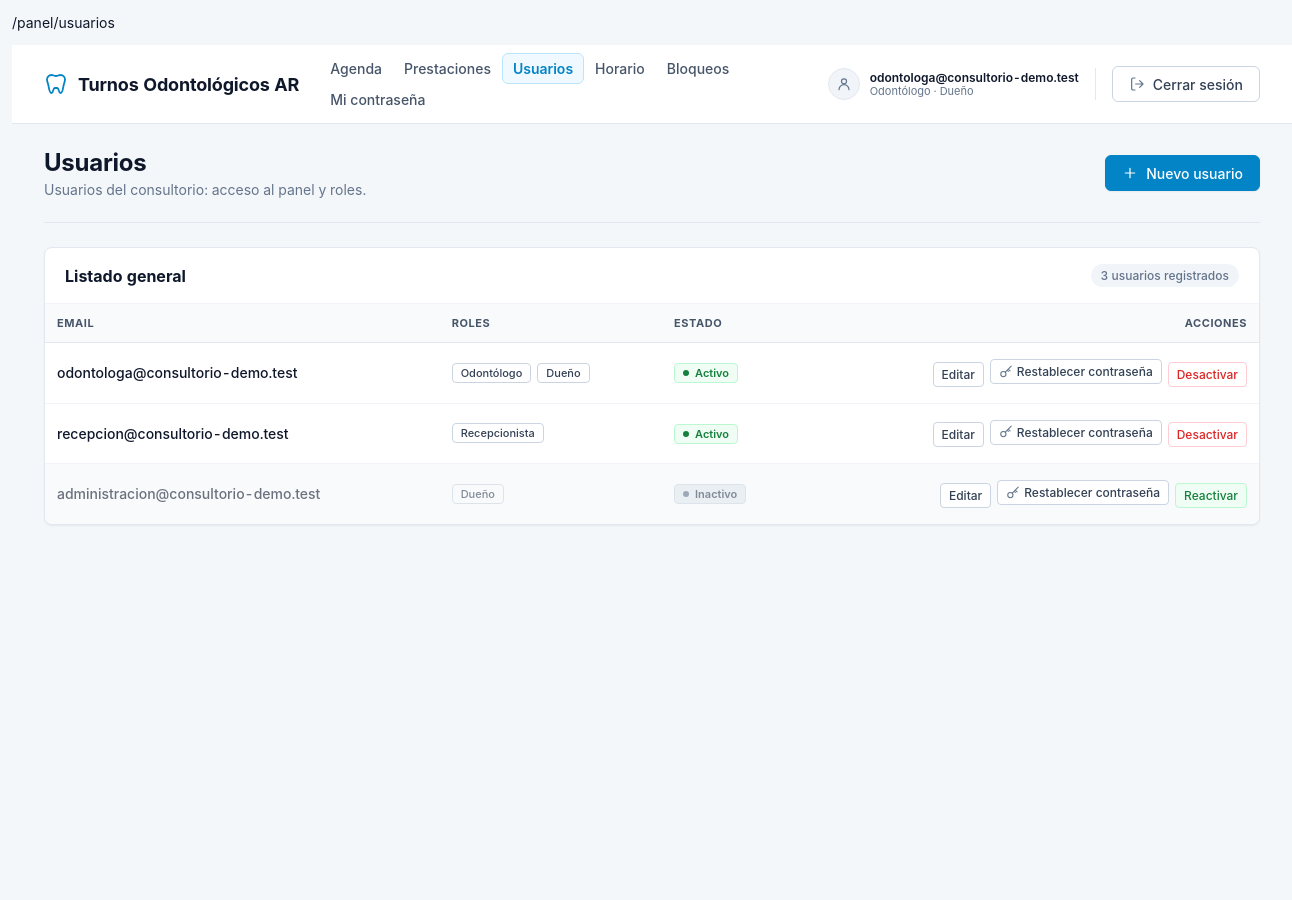
Scenario: PaginaUsuarios: errores del alta › US-092 CA-1: una sesión irrenovable al guardar un alta
expect the table is shown: met, box [45,304,1259,524]
Click the button "Nuevo usuario" at (1183, 173), box [1105,155,1260,191]
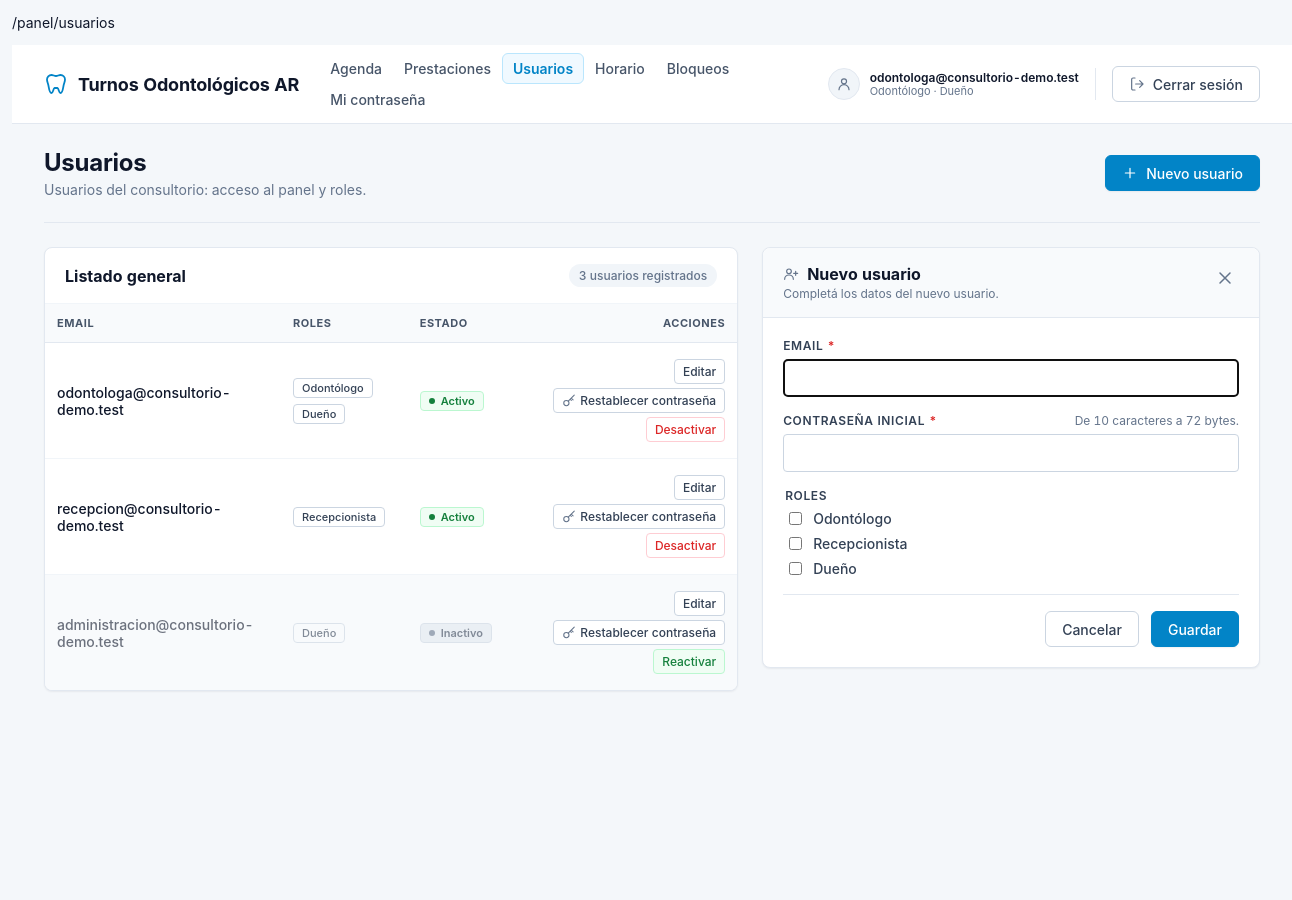
Type "turnos@consultorio-demo.test" into the field labelled "Email" at (1011, 378), box [783,359,1239,397]
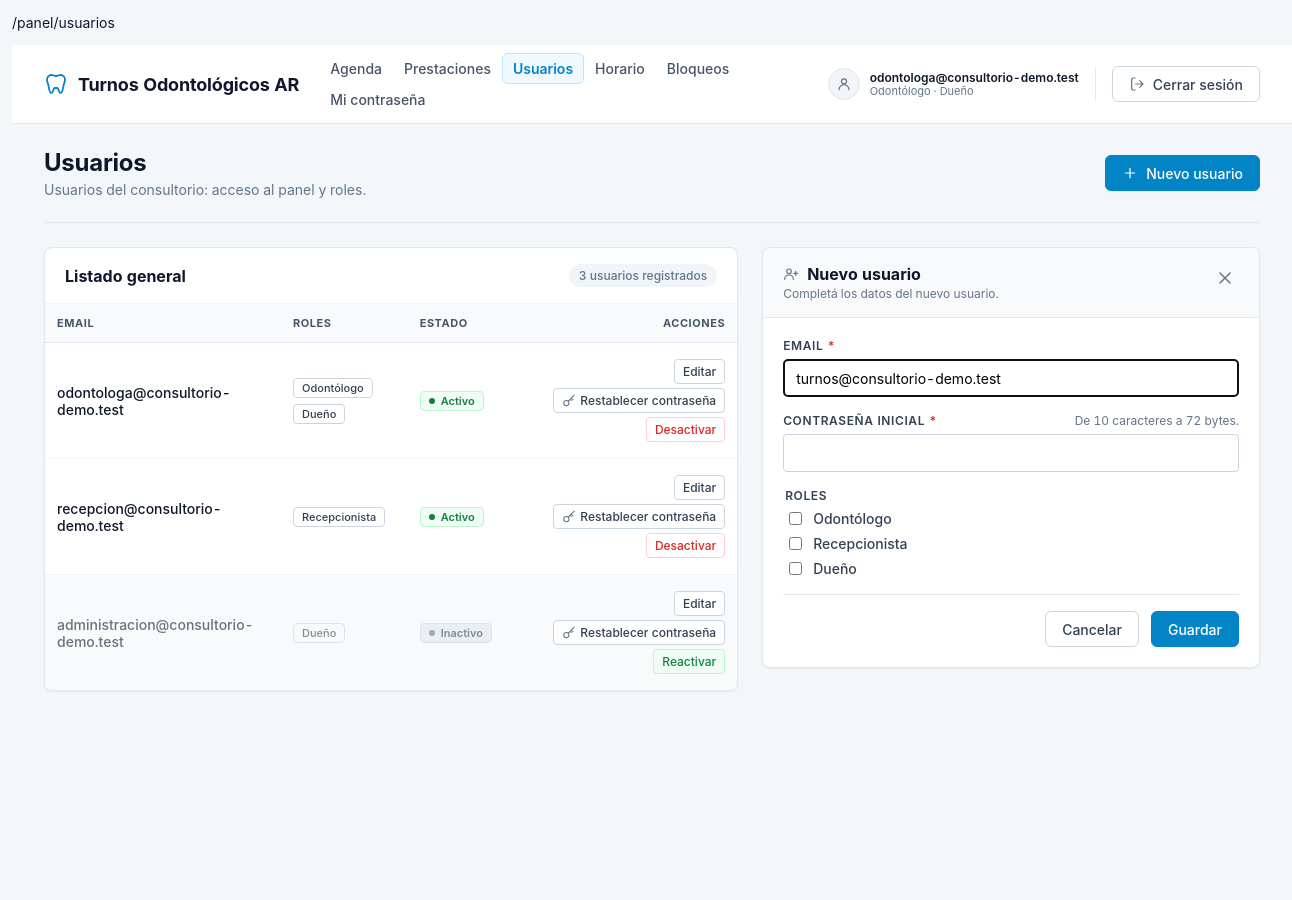
Type "clave-ficticia-2026" into the password field labelled "Contraseña inicial" at (1011, 453), box [783,434,1239,472]
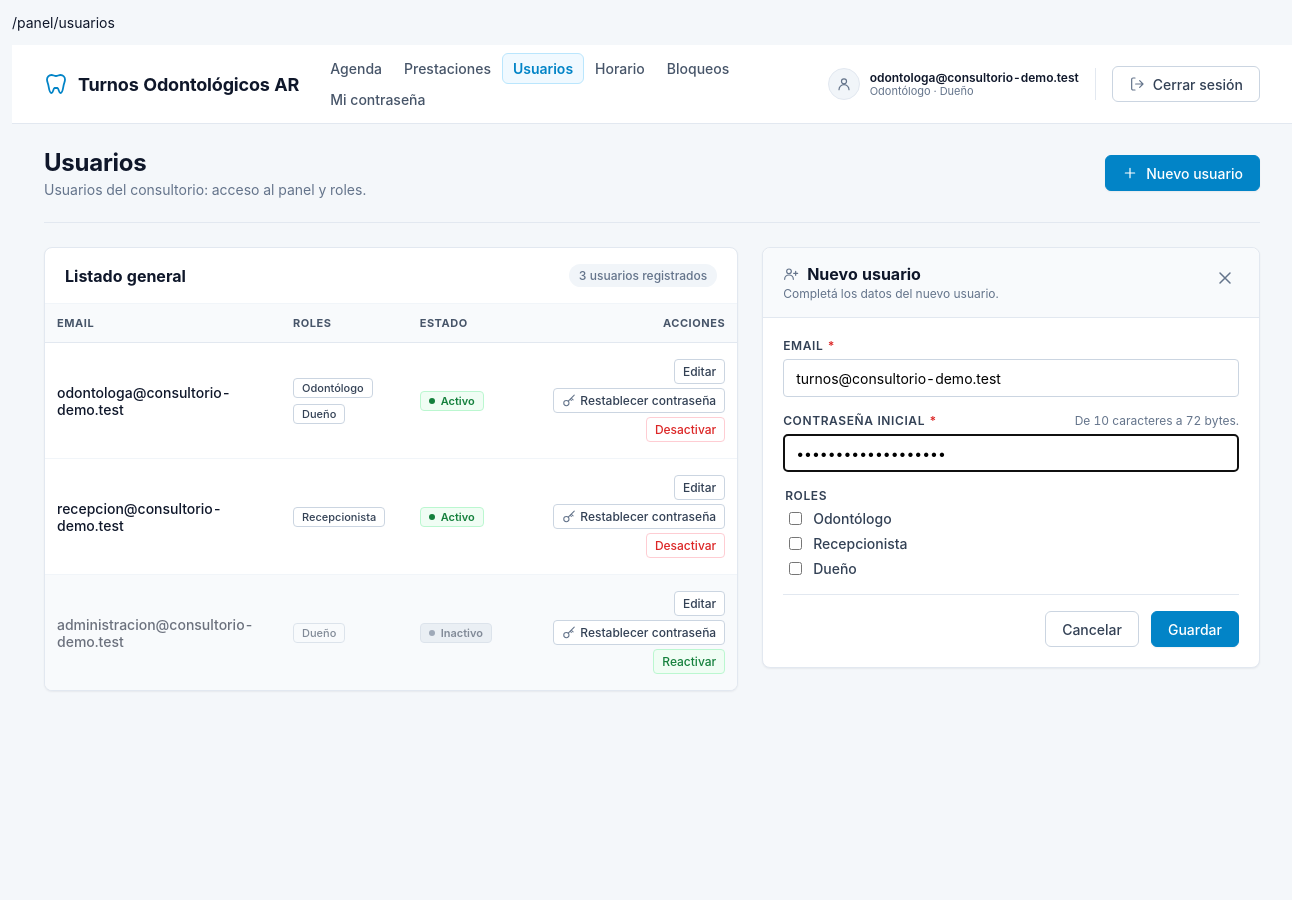
Click the checkbox labelled "Recepcionista" at (796, 544), box [789,537,802,550]
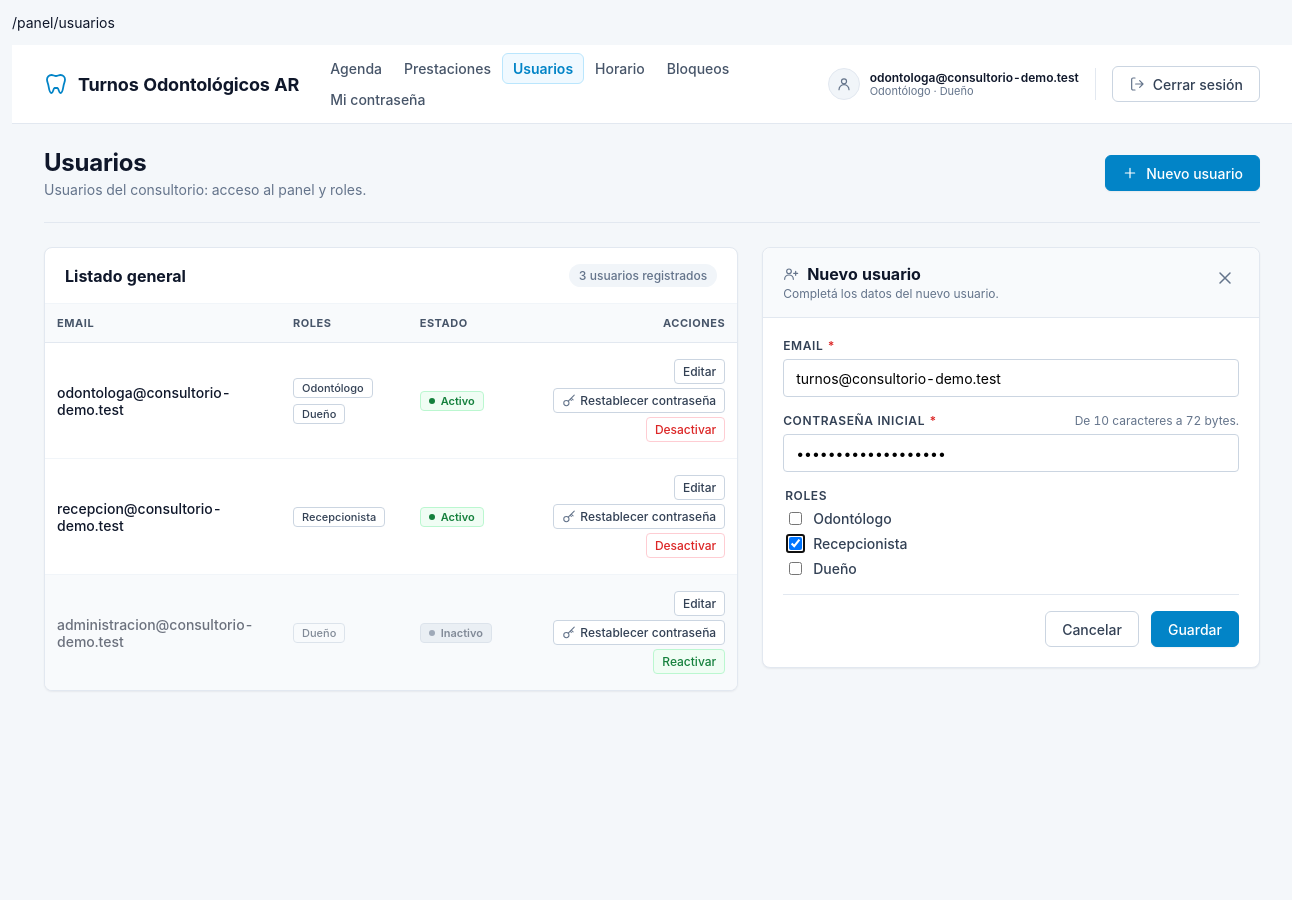
Click the button "Guardar" at (1195, 629), box [1151,611,1239,647]
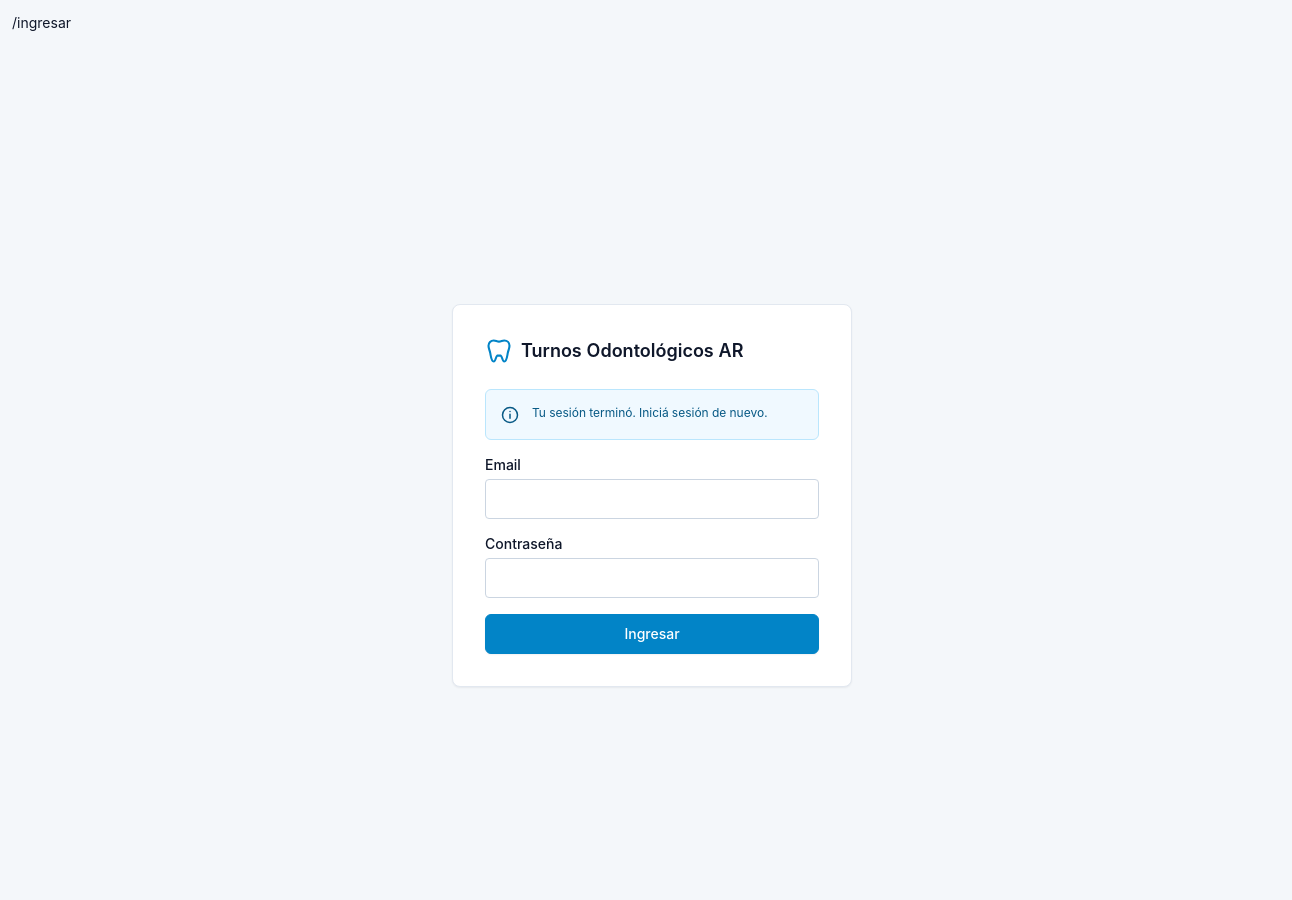
expect the message reads "Tu sesión terminó. Iniciá sesión de nuevo.": met, box [532,404,767,420]
expect the text with test id "lugar" reads "/ingresar": met, box [12,14,71,31]
